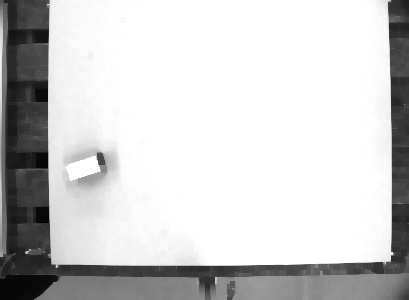b3: (60, 149, 111, 184)
